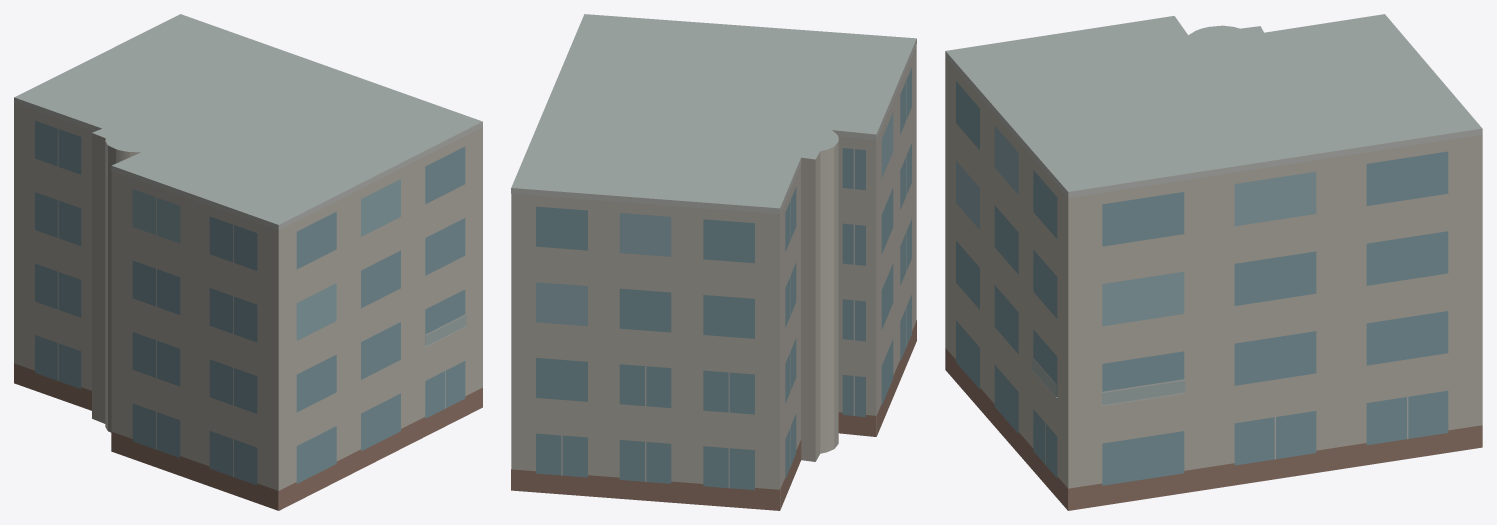
The model's file is survey-upis-33021417.glb.
3 renders of one model, left to right at view 1: azimuth 30°, elevation 25°; view 2: azimuth 150°, elevation 25°; view 3: azimuth 270°, elevation 25°, orthographic. The views are drawn at different scales.
Visible parts, largest first — view 1: survey-upis-33021417.tmp; view 2: survey-upis-33021417.tmp; view 3: survey-upis-33021417.tmp.
Part boxes in pixels (x1,y1,x2,y2): survey-upis-33021417.tmp: (14,14,482,510); survey-upis-33021417.tmp: (511,14,916,510); survey-upis-33021417.tmp: (945,14,1482,510).
Size of the model in its own units: 15.32 by 12.8 by 19.55.
